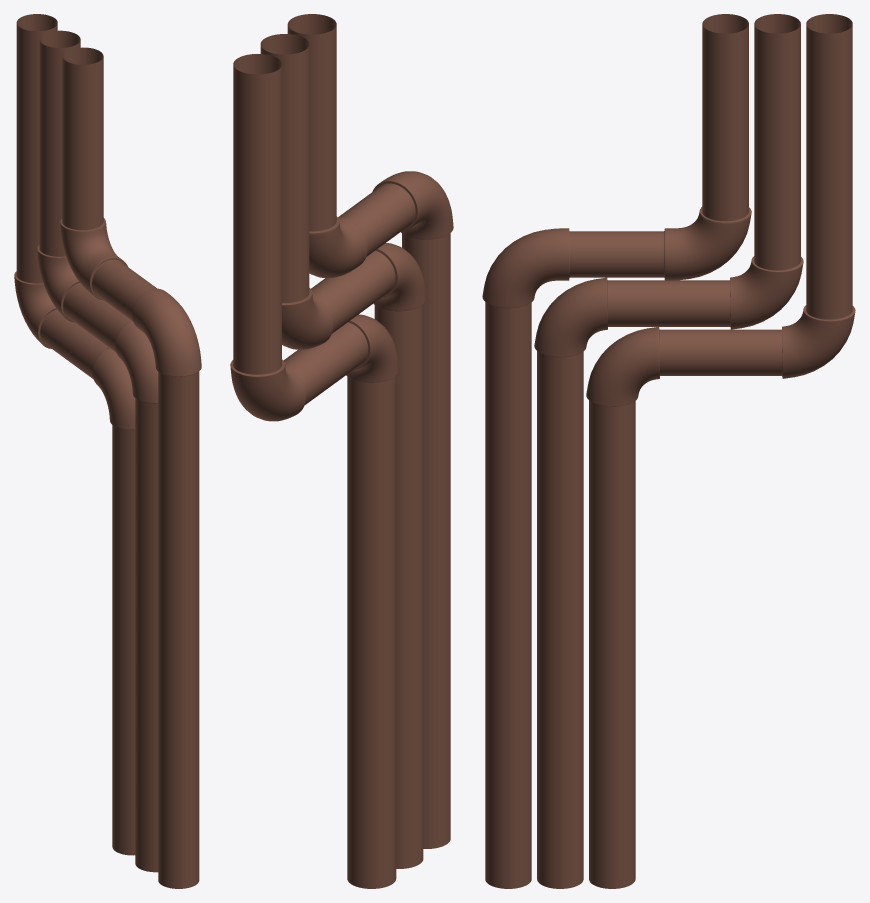
File: Pipe01.fbx
3 views of the same model, side by side, from view 1: azimuth 30°, elevation 25°; view 2: azimuth 150°, elevation 25°; view 3: azimuth 270°, elevation 25° (orthographic). The views are drawn at different scales.
Visible parts, largest first — view 1: Pipe01_High; view 2: Pipe01_High; view 3: Pipe01_High.
Boxes of the visible parts, x1,y1,x2,y2 form: Pipe01_High: (14,14,201,888); Pipe01_High: (230,14,453,888); Pipe01_High: (482,14,855,888).
Bounding box in the file's own units: 0.4431 × 8 × 3.16.
